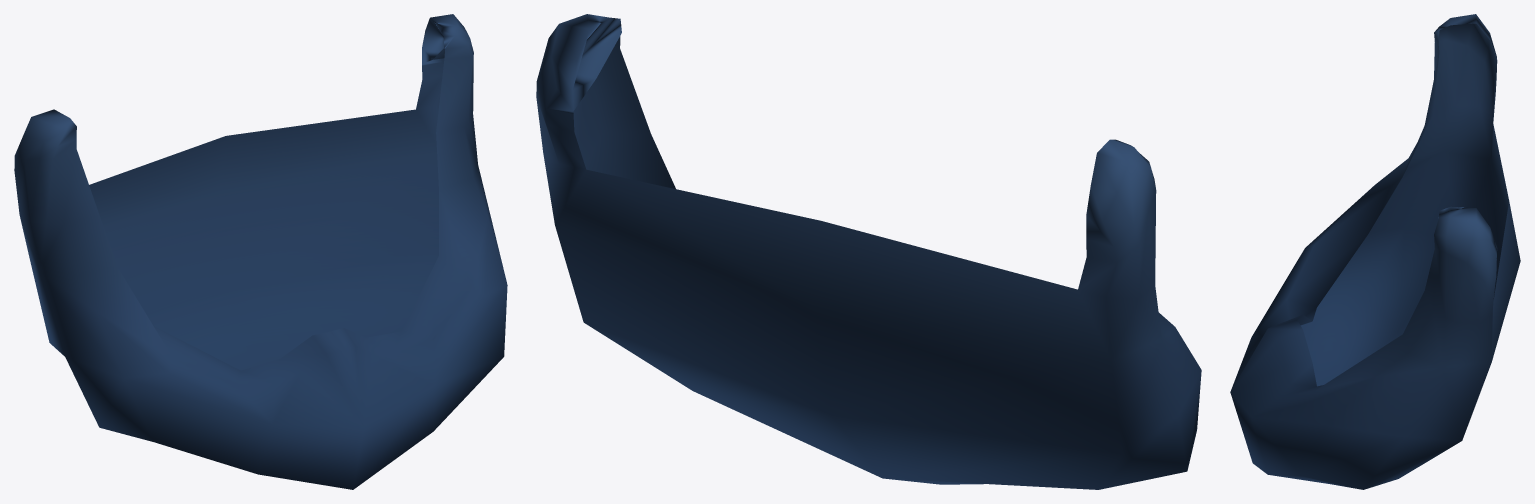
Rendered from Beard_Blue_10.fbx.
The picture shows the model from 3 angles, left to right: view 1: azimuth 30°, elevation 25°; view 2: azimuth 150°, elevation 25°; view 3: azimuth 270°, elevation 25°; orthographic projection. The views are drawn at different scales.
Parts seen in each view (by area): view 1: Beard_Blue_10; view 2: Beard_Blue_10; view 3: Beard_Blue_10.
Part boxes in pixels (x1,y1,x2,y2): Beard_Blue_10: [14, 14, 507, 489]; Beard_Blue_10: [536, 14, 1201, 489]; Beard_Blue_10: [1230, 14, 1520, 489].
Size of the model in its own units: 52.51 by 38.74 by 29.34.
